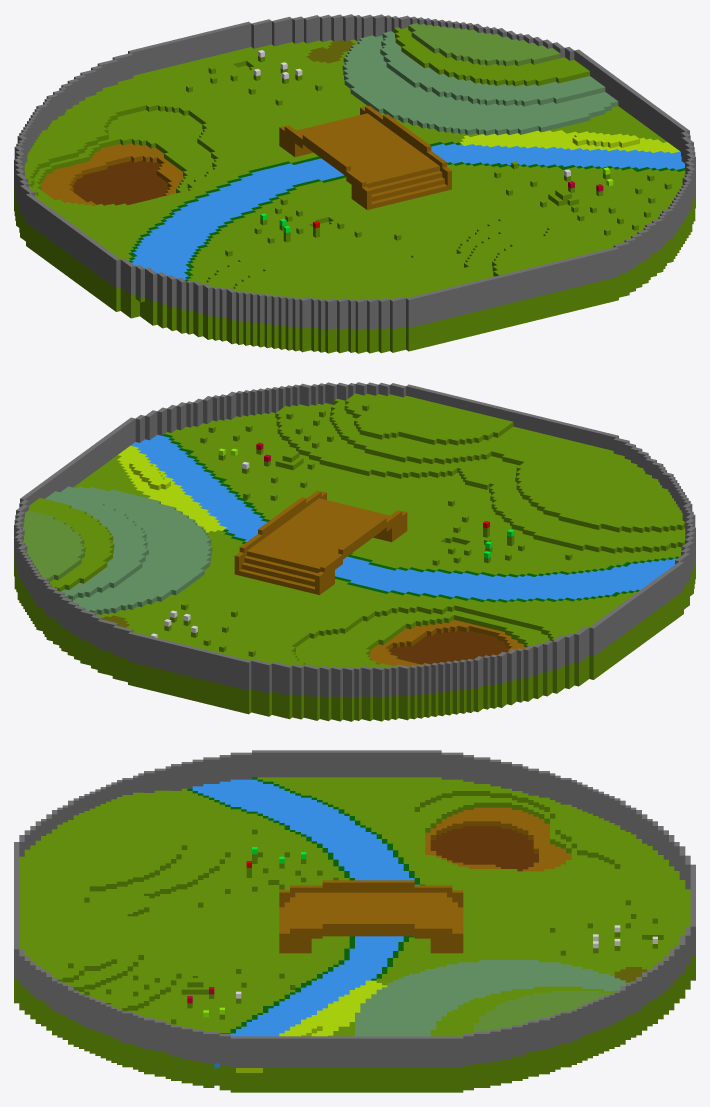
The model's file is testingLevel.fbx.
The picture shows the model from 3 angles, top to bottom: view 1: azimuth 30°, elevation 25°; view 2: azimuth 150°, elevation 25°; view 3: azimuth 270°, elevation 25°; orthographic projection. The views are drawn at different scales.
Visible parts, largest first — view 1: Untitled; view 2: Untitled; view 3: Untitled.
Part boxes in pixels (x1=…): Untitled: x1=14, y1=14, x2=695, y2=353; Untitled: x1=14, y1=382, x2=695, y2=721; Untitled: x1=14, y1=750, x2=695, y2=1092.
Size of the model in its own units: 1260 by 120 by 1260.
